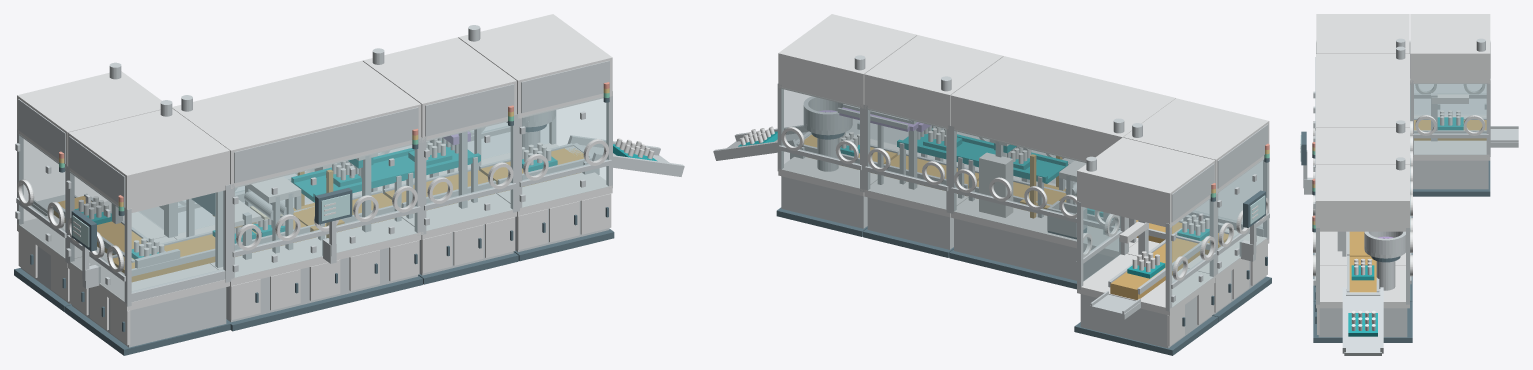
The model's file is flexfill-display.glb.
The picture shows the model from 3 angles, left to right: view 1: azimuth 30°, elevation 25°; view 2: azimuth 150°, elevation 25°; view 3: azimuth 270°, elevation 25°; orthographic projection. The views are drawn at different scales.
Visible parts, largest first — view 1: 2_hood_119, 2_glass_126, 1_hood_58, 1_glass_89, 3_glass_260, 4_glass_326, 3_hood_253, 4_hood_319, 2_hood_120, 0_hood_8, 2_body_108, 1_body_50 (+59 smaller); view 2: 2_hood_119, 2_glass_125, 0_hood_8, 4_hood_319, 3_hood_253, 4_glass_325, 3_glass_259, 1_hood_58, 2_body_107, 4_body_311, 3_body_245, 2_body_108 (+41 smaller); view 3: 2_hood_119, 4_hood_319, 0_hood_8, 0_glass_14, 1_hood_58, 3_hood_253, 0_body_2, 4_body_312, 0_body_3, 4_process_377, 4_body_311, 0_glass_15 (+27 smaller).
Boxes of the visible parts, x1,y1,x2,y2 form: 2_hood_119: (172,60,421,188); 2_glass_126: (235,144,417,277); 1_hood_58: (68,108,229,212); 1_glass_89: (132,191,224,292); 3_glass_260: (426,120,512,230); 4_glass_326: (522,97,608,207); 3_hood_253: (362,37,516,142); 4_hood_319: (458,14,612,118); 2_hood_120: (234,107,418,183); 0_hood_8: (17,71,161,169); 2_body_108: (174,191,421,285); 1_body_50: (72,287,226,347); 2_hood_119: (950,56,1175,162); 2_glass_125: (954,130,1118,250); 0_hood_8: (1077,137,1215,227); 4_hood_319: (778,14,917,108); 3_hood_253: (864,35,1003,129); 4_glass_325: (781,88,859,188); 3_glass_259: (868,109,945,209); 1_hood_58: (1123,98,1269,194); 2_body_107: (954,218,1114,280); 4_body_311: (781,176,867,228); 3_body_245: (867,197,953,249); 2_body_108: (950,176,1138,257); 2_hood_119: (1316,54,1409,127); 4_hood_319: (1316,164,1409,231); 0_hood_8: (1410,14,1490,83); 0_glass_14: (1414,83,1486,154); 1_hood_58: (1316,14,1409,53); 3_hood_253: (1316,127,1409,164); 0_body_2: (1413,160,1488,189); 4_body_312: (1316,265,1409,308); 0_body_3: (1413,115,1490,160); 4_process_377: (1344,292,1381,355); 4_body_311: (1318,308,1407,337); 0_glass_15: (1414,84,1486,114).
Bounding box in the file's own units: 0.4019 × 0.124 × 0.1628.
